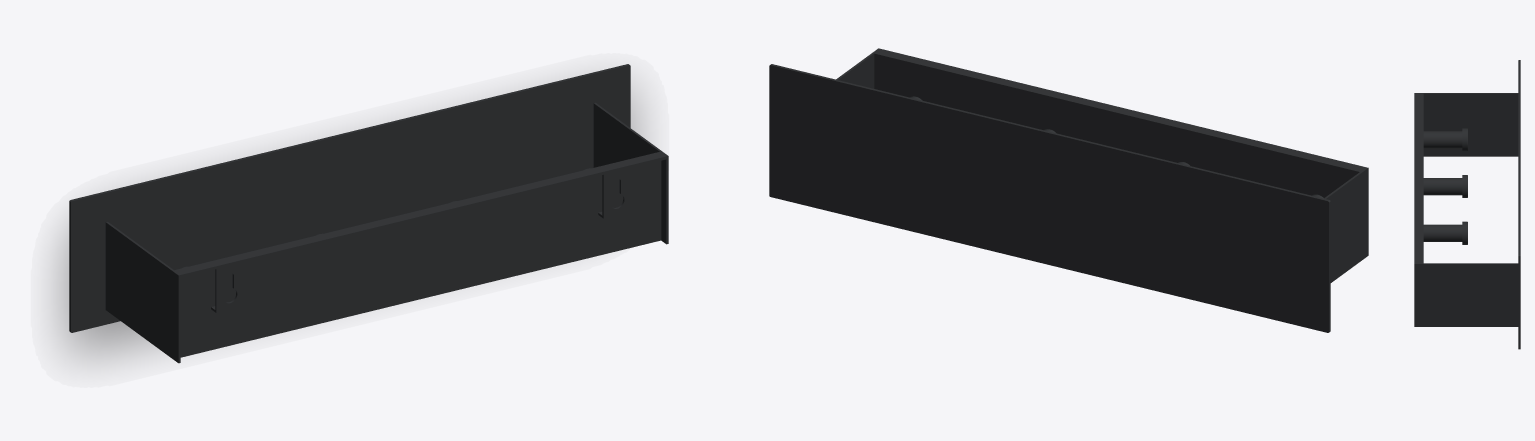
File: skyline-hook.ae457ece33.ar.glb
3 views of the same model, side by side, from view 1: azimuth 30°, elevation 25°; view 2: azimuth 150°, elevation 25°; view 3: azimuth 270°, elevation 25° (orthographic). The views are drawn at different scales.
Visible parts, largest first — view 1: NAUO1, object 2; view 2: NAUO1; view 3: NAUO1.
Boxes of the visible parts, x1,y1,x2,y2 form: NAUO1: [69, 64, 668, 363]; object 2: [58, 98, 641, 356]; NAUO1: [769, 48, 1368, 332]; NAUO1: [1414, 60, 1520, 349].
Bounding box in the file's own units: 0.48 × 0.17 × 0.092.
Materials: 2 (1 with a texture image).
